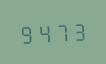four: (35, 20, 51, 44)
nine: (18, 21, 34, 44)
seven: (52, 20, 68, 43)
three: (69, 19, 85, 42)
